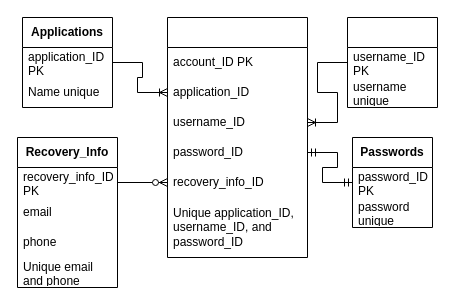
Some shapes in this 455 by 305 pixel diagram are drawn without their labels. Each missing label, with the box of its shape:
Accounts: (166, 16, 308, 258)
Usernames: (346, 16, 438, 108)
